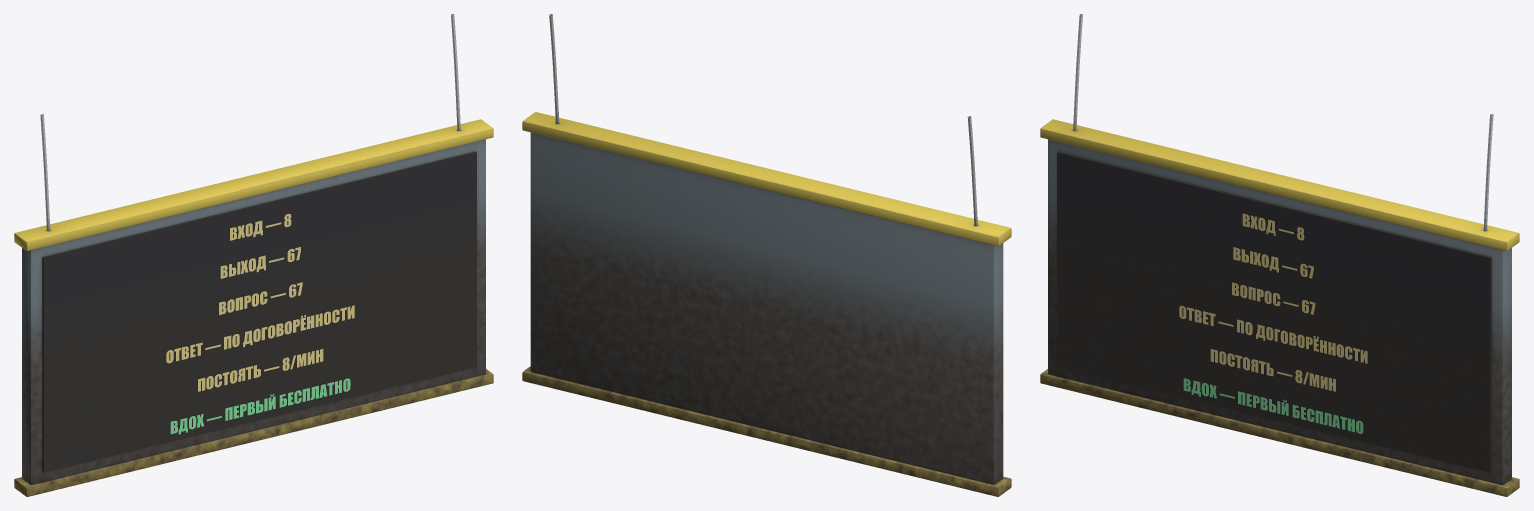
File: g67_pz_tariff_board.glb
The picture shows the model from 3 angles, left to right: view 1: azimuth 30°, elevation 25°; view 2: azimuth 150°, elevation 25°; view 3: azimuth 330°, elevation 25°; orthographic projection.
Visible parts, largest first — view 1: g67_pz_tariff_board; view 2: g67_pz_tariff_board; view 3: g67_pz_tariff_board.
Part boxes in pixels (box(x1,y1,x2,y2)): g67_pz_tariff_board: box(14, 14, 493, 496); g67_pz_tariff_board: box(522, 14, 1011, 496); g67_pz_tariff_board: box(1040, 14, 1519, 496).
Bounding box in the file's own units: 4.1 × 3.07 × 0.2129.
Materials: 1 (1 with a texture image).
